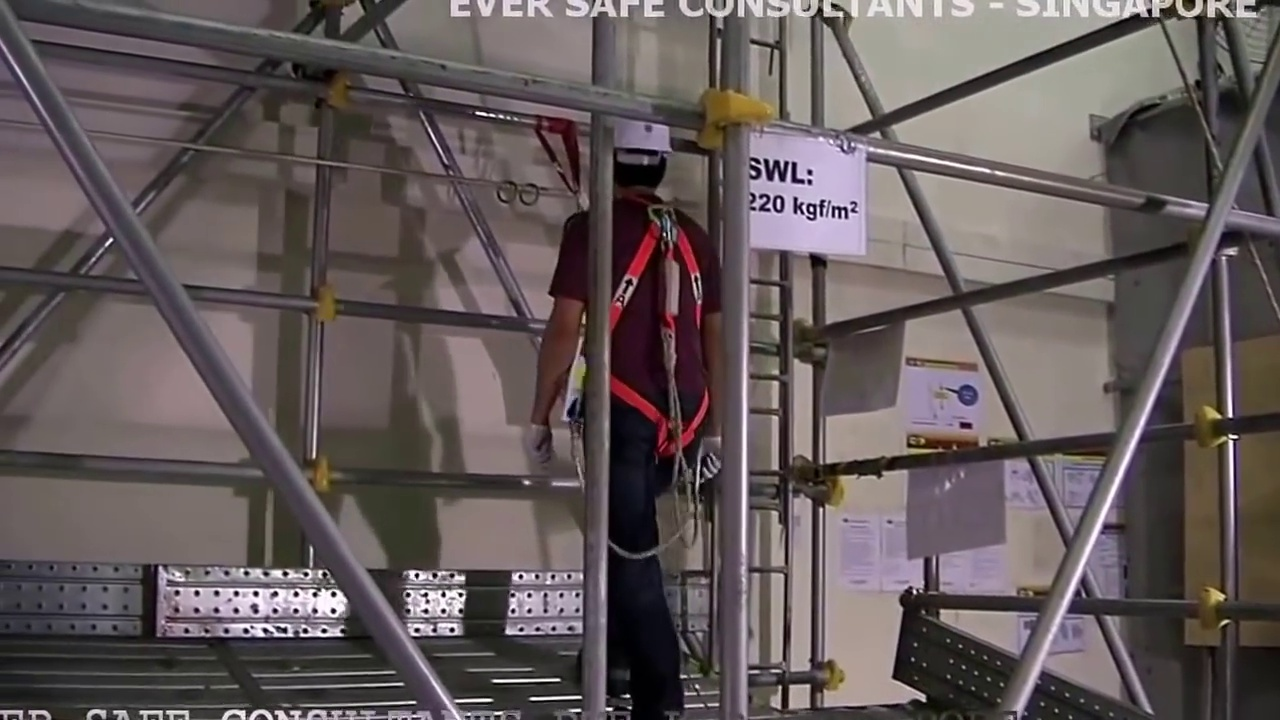harness: (609, 205, 711, 454)
helmet: (613, 116, 672, 156)
